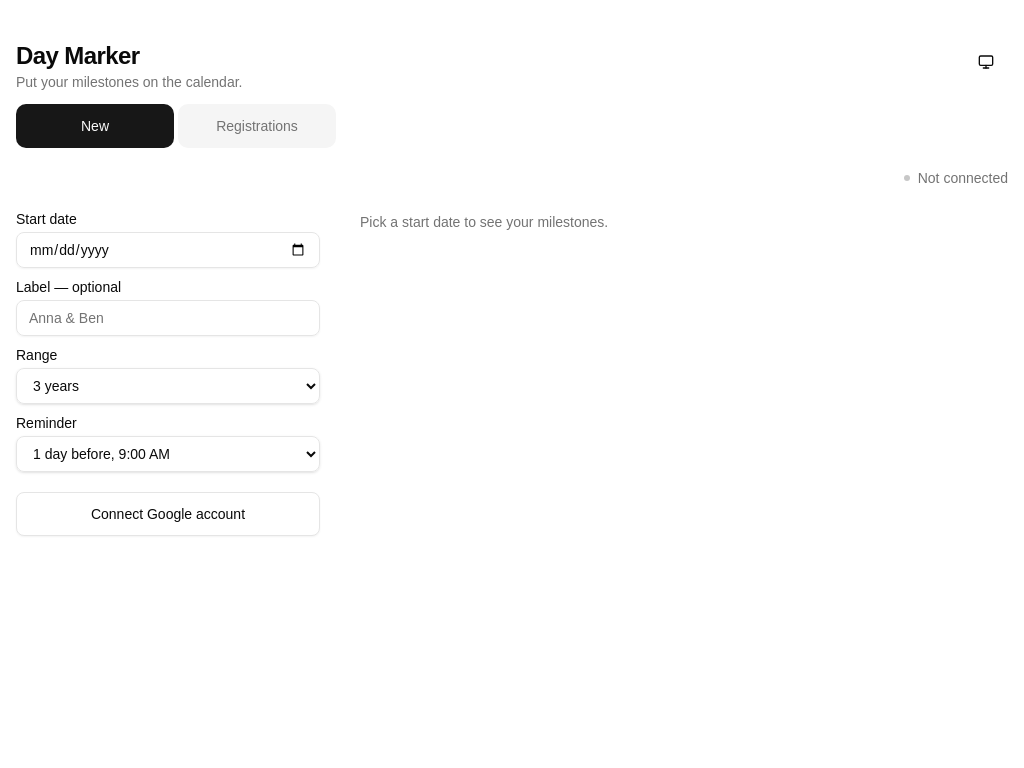
Scenario: Root › keeps a sign-out made in the write flow after switching to Registrations
What coordinates should you click on to do the following:
click the button "Connect Google account"
I would click on:
 (168, 514)
Its box is [16, 492, 320, 536].
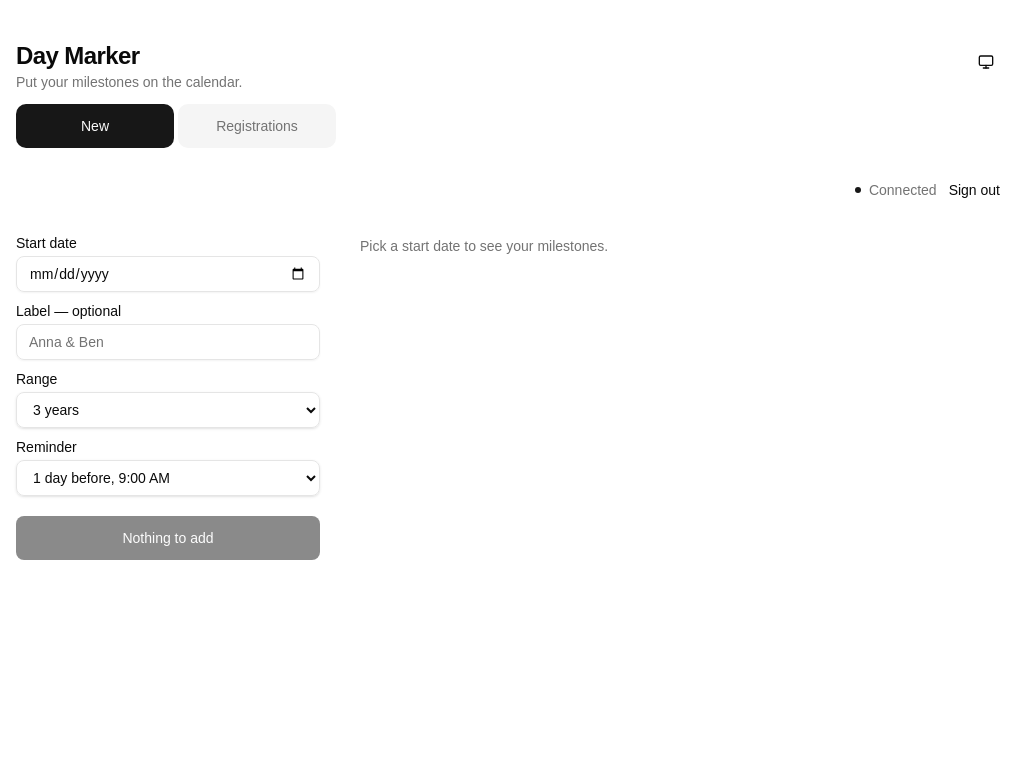
Expected: the text "Connected" is shown, [869, 180, 937, 200]
What coordinates should you click on to do the following:
click the button "Sign out"
I would click on:
 (974, 190)
Its box is [941, 168, 1008, 212].
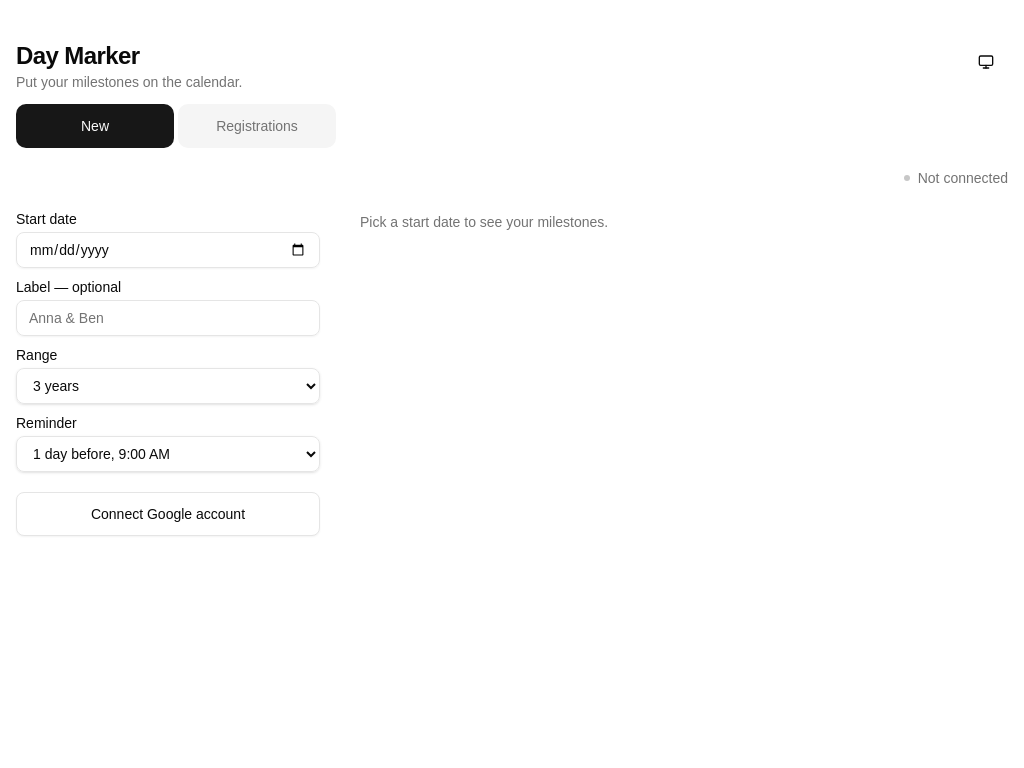
What coordinates should you click on to do the following:
click the link "Registrations"
I would click on:
 (257, 126)
Its box is [178, 104, 336, 148].
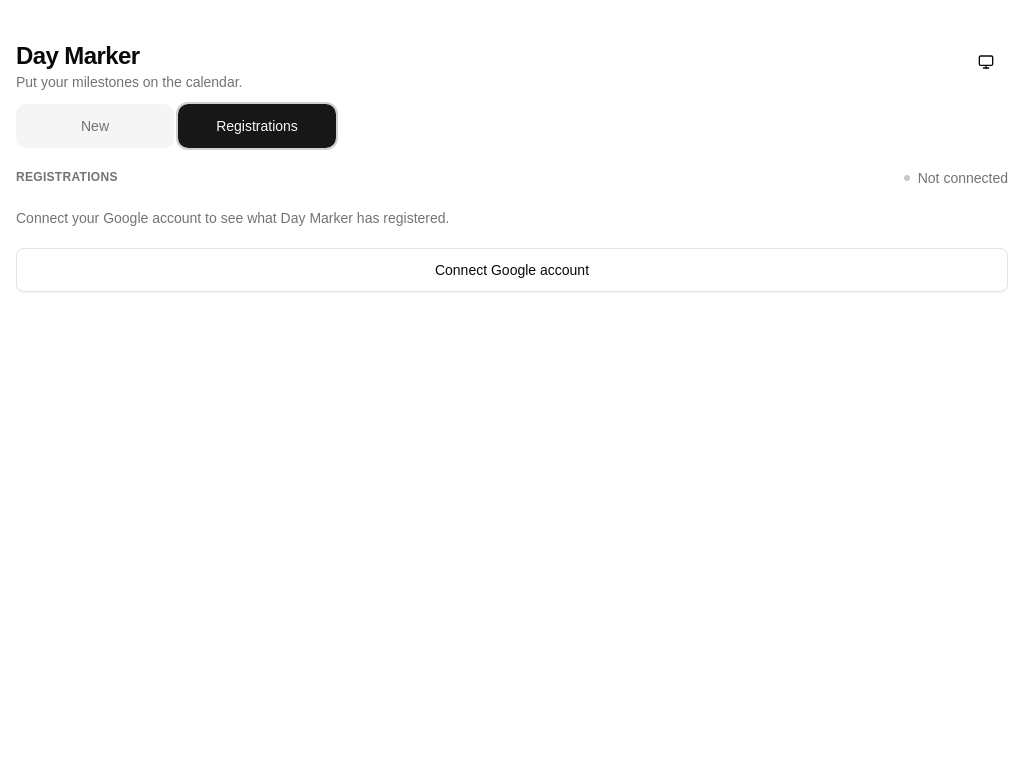
Result: the text "Not connected" is shown at [918, 168, 1008, 188]
Result: the text "Connect your Google account to see what Day Marker has registered." is shown at [16, 210, 450, 226]
